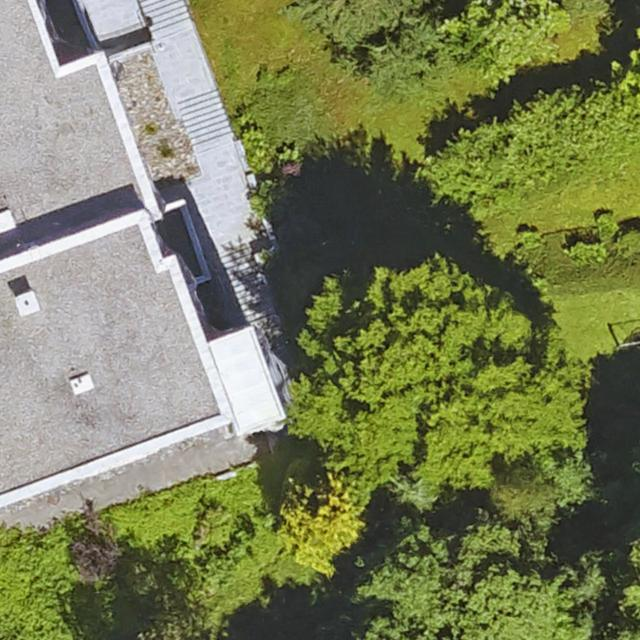tree: (280, 256, 587, 504), (359, 507, 608, 640), (294, 0, 476, 80), (0, 518, 82, 640), (272, 472, 373, 565), (454, 0, 562, 80)
